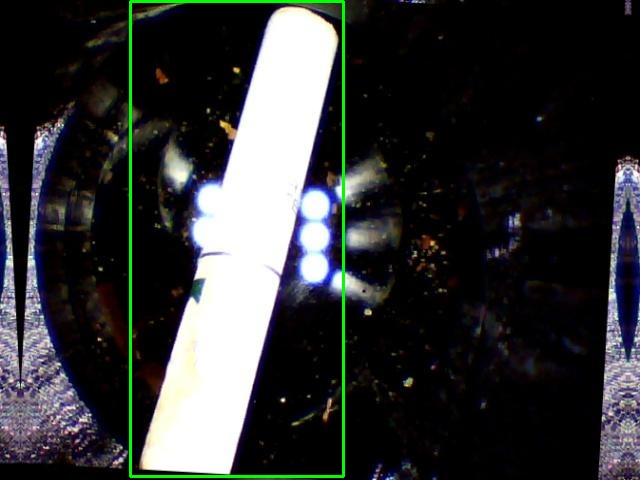megot: (130, 1, 343, 476)
